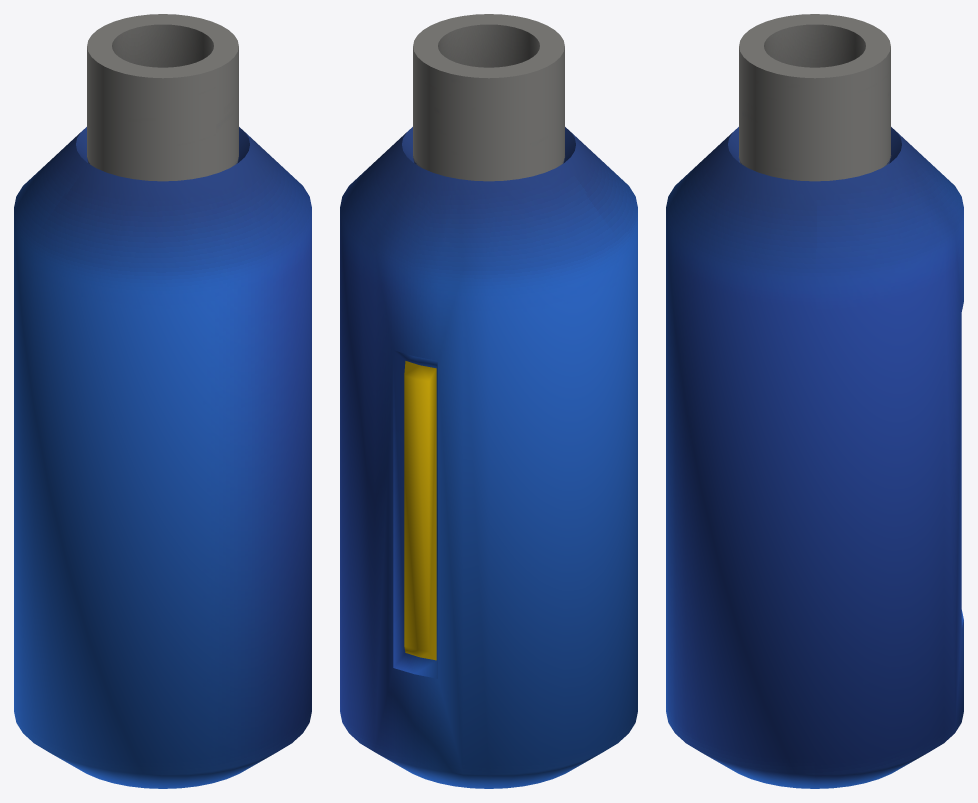
Rendered from buster.glb.
3 views of the same model, side by side, from view 1: azimuth 30°, elevation 25°; view 2: azimuth 150°, elevation 25°; view 3: azimuth 270°, elevation 25° (orthographic).
Parts seen in each view (by area): view 1: Buster; view 2: Buster; view 3: Buster.
Boxes of the visible parts, <box> form: Buster: <box>14,14,311,788</box>; Buster: <box>340,14,637,788</box>; Buster: <box>666,14,963,788</box>.
Size of the model in its own units: 0.3539 by 0.9188 by 0.3539.
1 material, 1 textured.
